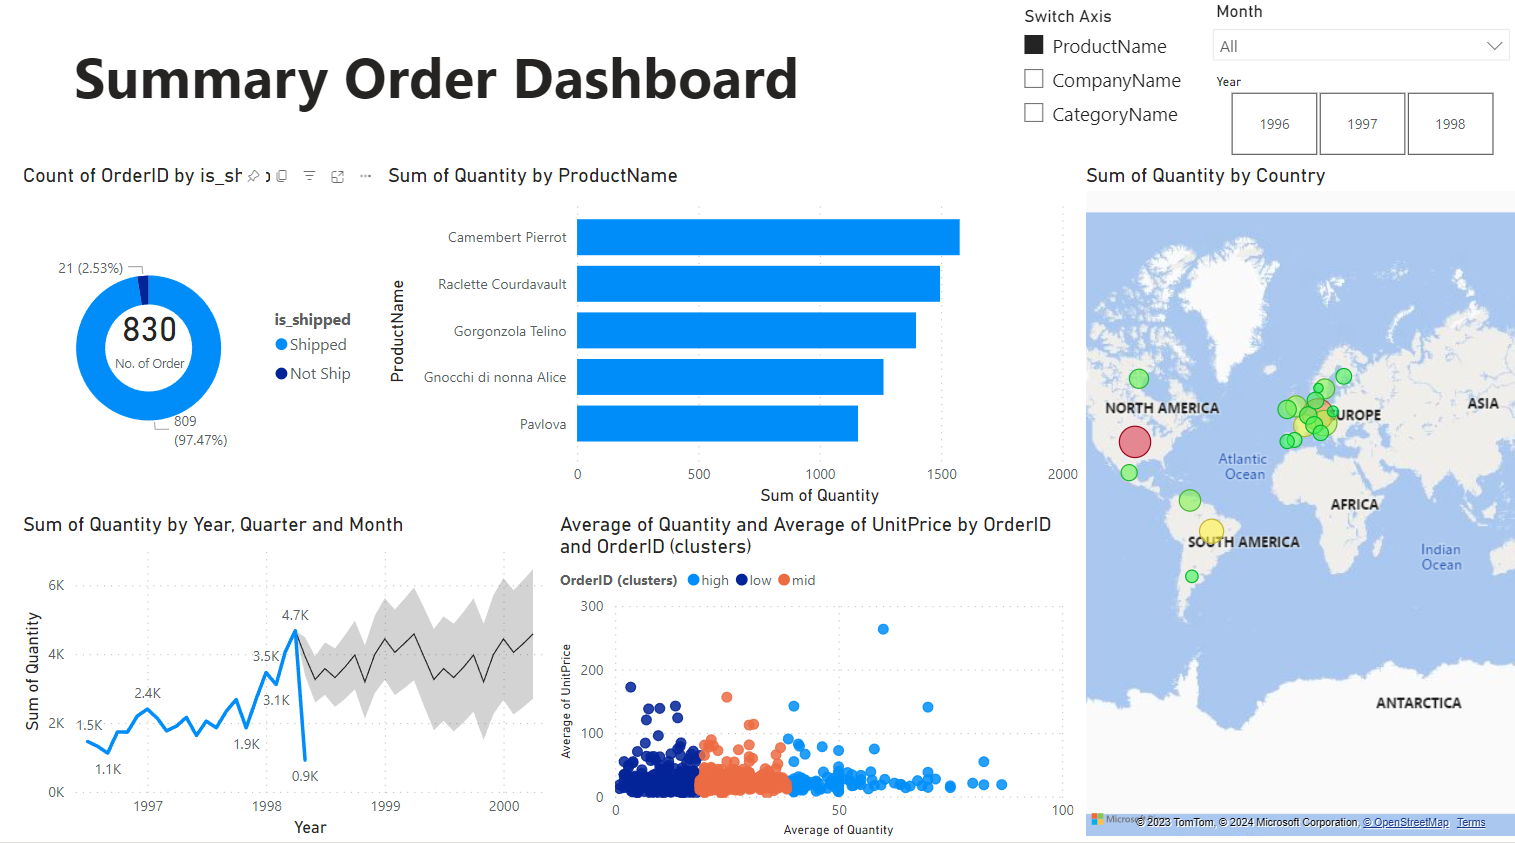

Layout of this report page (visuals, bound fields, positions):
{"tool":"powerbi","page":{"name":"Page 1","canvas":[1280,720],"ordinal":0},"visuals":[{"type":"donutChart","fields":{"Category":["Orders.is_shipped"],"Y":["CountNonNull(Orders.OrderID)"]},"box":[0,141.8,308,295.8],"z":0},{"type":"clusteredBarChart","fields":{"Category":["Product.ProductName"],"Y":["Sum(Orders Details.Quantity)"]},"box":[311,142,597,296],"z":1000},{"type":"card","fields":{"Values":["CountNonNull(Orders.OrderID)"]},"box":[64,252,98,75],"z":2000},{"type":"lineChart","fields":{"Category":["Orders.OrderDate.Variation.Date Hierarchy.Year","Orders.OrderDate.Variation.Date Hierarchy.Quarter","Orders.OrderDate.Variation.Date Hierarchy.Month","Orders.OrderDate.Variation.Date Hierarchy.Day"],"Y":["Sum(Orders Details.Quantity)"]},"box":[0,438.8,457.2,281.2],"z":3000},{"type":"scatterChart","fields":{"X":["Avg(Orders Details.Quantity)"],"Y":["Avg(Orders Details.UnitPrice)"],"Category":["Orders Details.OrderID"],"Series":["Orders Details.OrderID (clusters)"]},"box":[457.2,438.8,447.4,281.2],"z":4000},{"type":"map","fields":{"Category":["Customers.Country"],"Size":["Sum(Orders Details.Quantity)"]},"box":[904.6,141.8,375.3,578.2],"z":5000},{"type":"slicer","fields":{"Values":["Orders.OrderDate.Variation.Date Hierarchy.Year"]},"box":[1007.3,61.1,272.6,80.7],"z":6000},{"type":"slicer","fields":{"Values":["Orders.OrderDate.Variation.Date Hierarchy.Month"]},"box":[1007.3,0,272.6,61.1],"z":7000},{"type":"slicer","fields":{"Values":["Switch Axis.Switch Axis"]},"box":[844,4,161,127],"z":8000},{"type":"textbox","box":[43,30,645.4,80.7],"z":9000}]}

Visuals, with their boxes in screenshot pixels (x1, y1, x2, y2), scaled from the page's 1280x720 canvas onto the 1515x843 screenshot:
donutChart - Orders.is_shipped x CountNonNull(Orders.OrderID): detection(0, 166, 365, 512)
clusteredBarChart - Product.ProductName x Sum(Orders Details.Quantity): detection(368, 166, 1075, 513)
card - CountNonNull(Orders.OrderID): detection(76, 295, 192, 383)
lineChart - Orders.OrderDate.Variation.Date Hierarchy.Year x Orders.OrderDate.Variation.Date Hierarchy.Quarter: detection(0, 514, 541, 842)
scatterChart - Avg(Orders Details.Quantity) x Avg(Orders Details.UnitPrice): detection(541, 514, 1071, 842)
map - Customers.Country x Sum(Orders Details.Quantity): detection(1071, 166, 1514, 842)
slicer - Orders.OrderDate.Variation.Date Hierarchy.Year: detection(1192, 72, 1514, 166)
slicer - Orders.OrderDate.Variation.Date Hierarchy.Month: detection(1192, 0, 1514, 72)
slicer - Switch Axis.Switch Axis: detection(999, 5, 1190, 153)
textbox: detection(51, 35, 815, 130)
